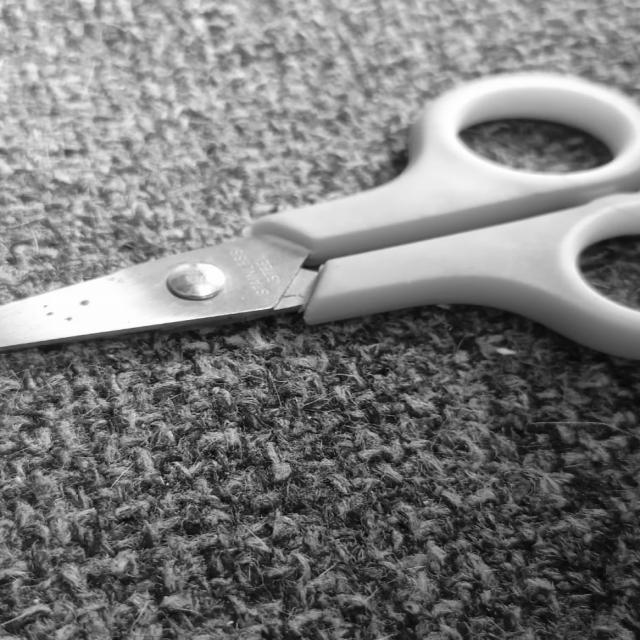tesoura: (0, 72, 639, 359)
